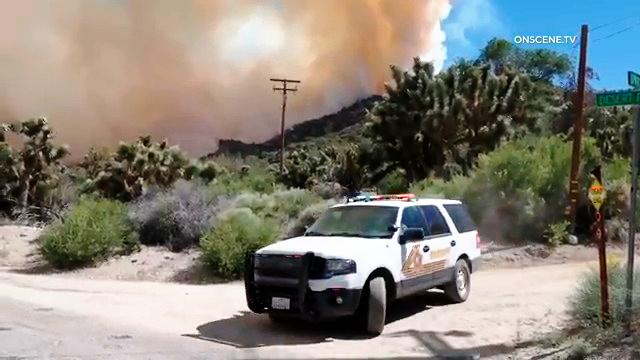smoke: (70, 6, 216, 99), (357, 4, 471, 55)
